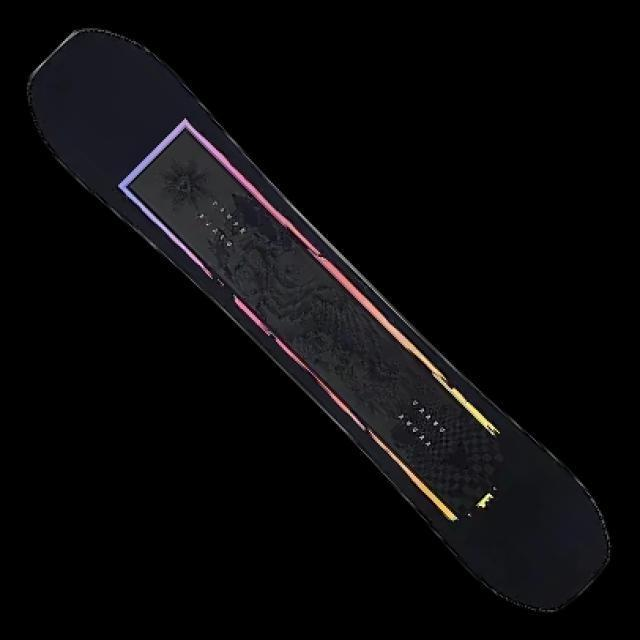Snowboard: (25, 26, 611, 614)
